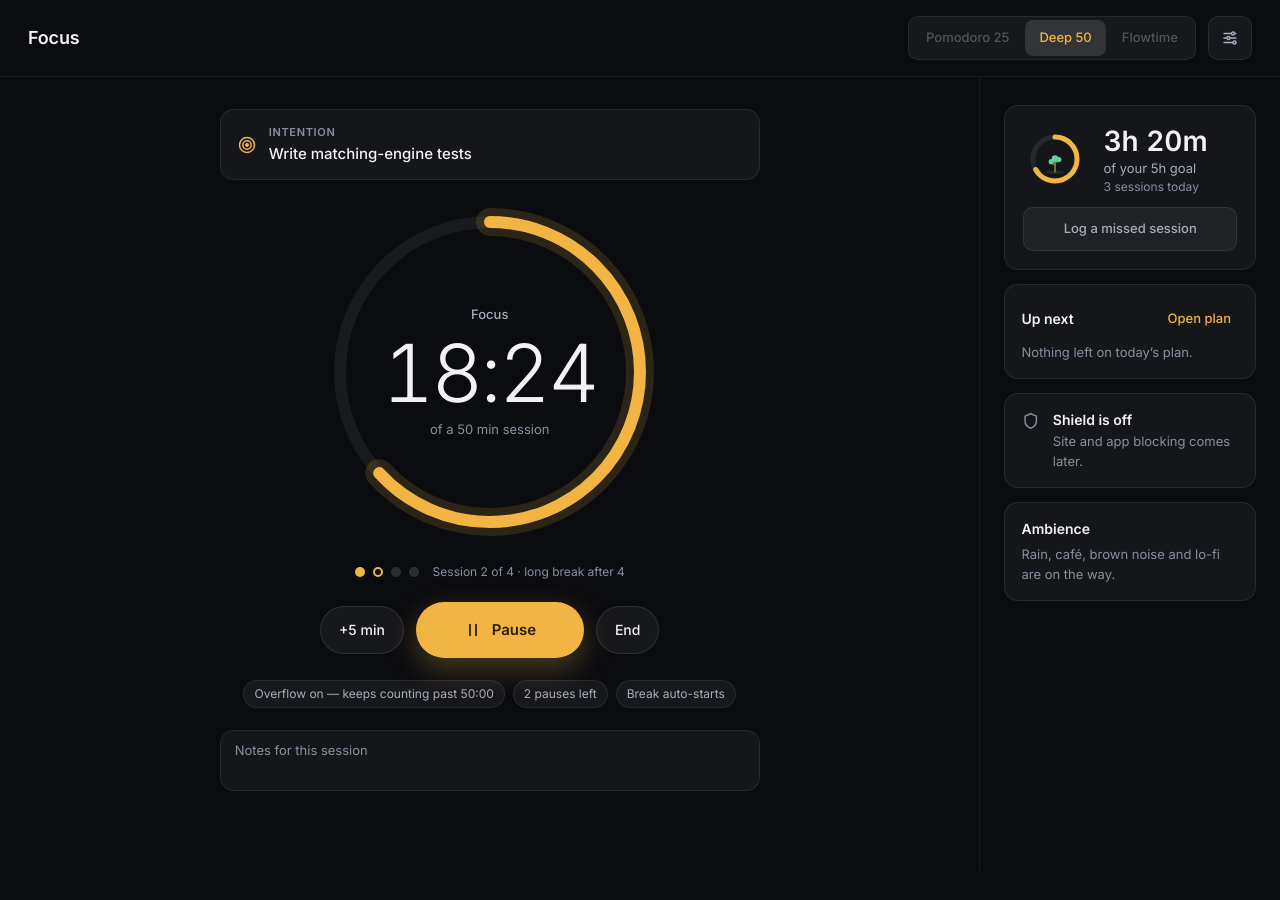
Test: FocusScreen › shows a refused action
Click the button "End". click: (628, 630)
box: [596,606,659,654]
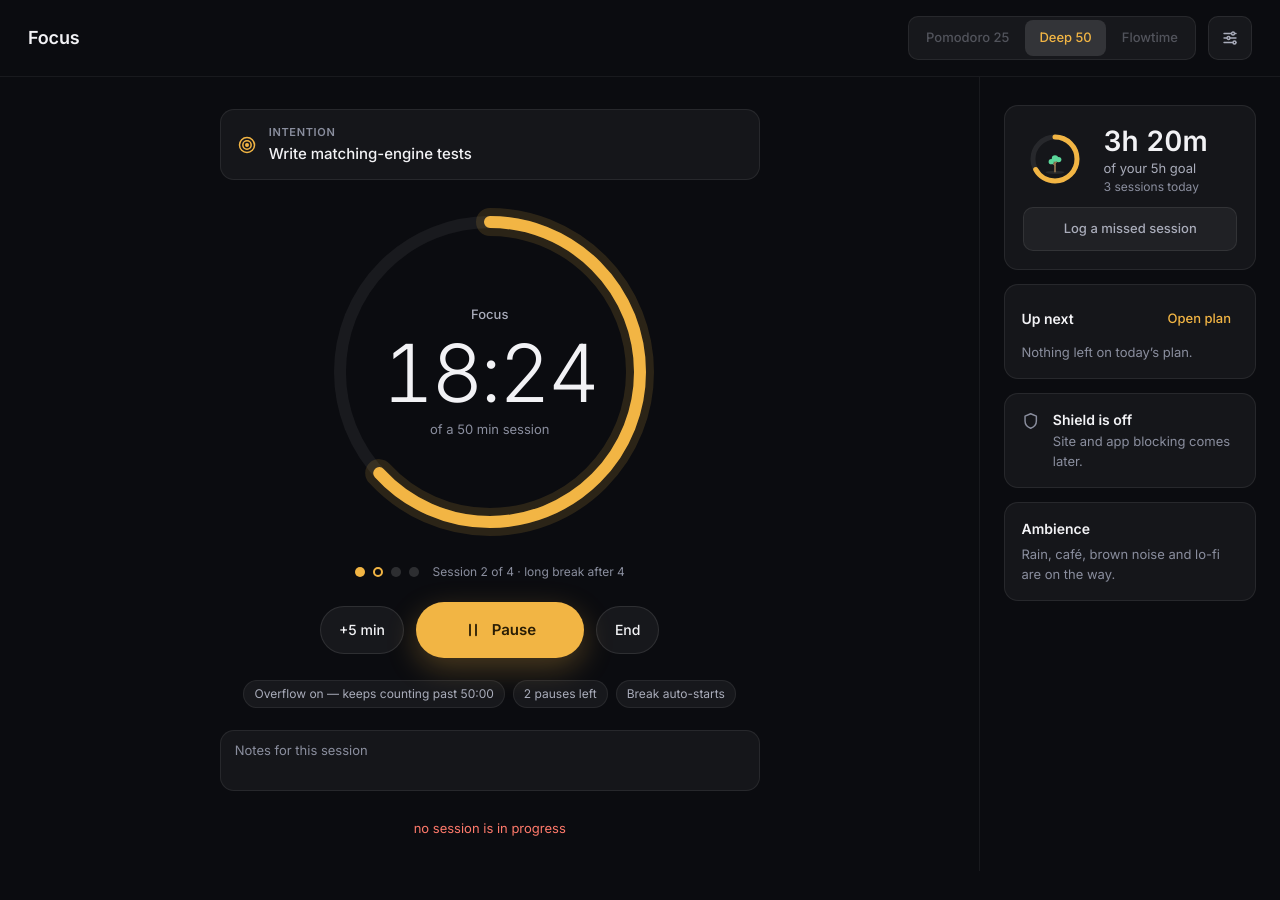
Check: the text "no session is in progress" is shown, box [414,819,566,839]
